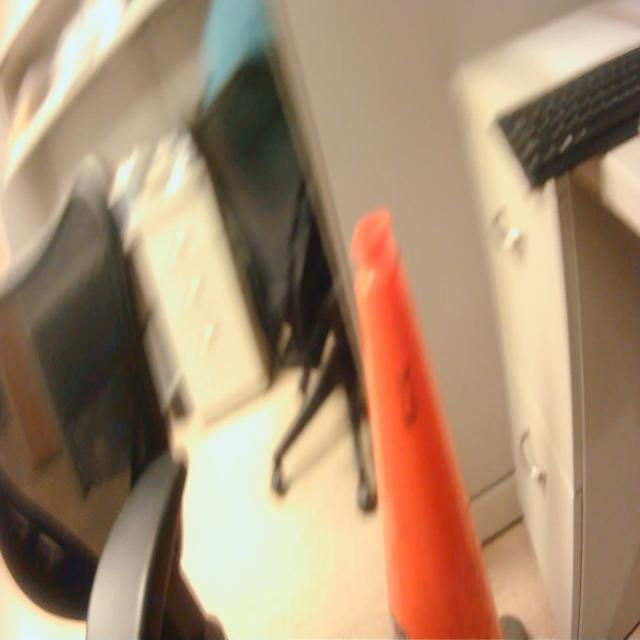traffic cone: (347, 204, 535, 640)
